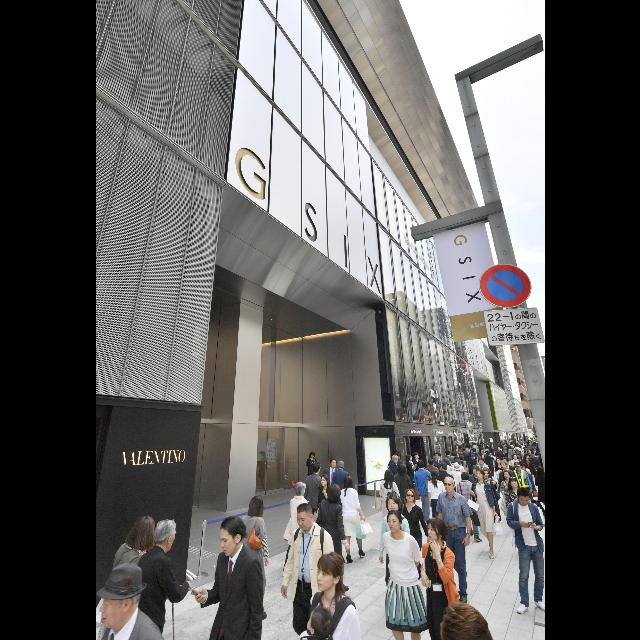head: (97, 574, 143, 628), (218, 517, 244, 557), (316, 554, 342, 592), (152, 520, 175, 552), (306, 608, 332, 636), (296, 503, 314, 531), (134, 516, 154, 538), (426, 518, 446, 540), (386, 510, 402, 532), (247, 496, 263, 514), (515, 488, 529, 507), (443, 476, 455, 494), (386, 497, 398, 513), (328, 485, 340, 499), (295, 482, 305, 496), (405, 488, 415, 502), (475, 466, 485, 479), (508, 477, 518, 488), (312, 462, 320, 473), (481, 468, 489, 479), (320, 476, 328, 486), (336, 460, 344, 470), (384, 470, 392, 480), (416, 460, 424, 470), (502, 470, 510, 480), (344, 476, 351, 486), (329, 458, 336, 468), (439, 462, 446, 472), (499, 460, 506, 470), (404, 454, 412, 462), (430, 470, 438, 478), (460, 472, 468, 480), (392, 454, 398, 464), (520, 462, 526, 472), (502, 456, 508, 466), (478, 458, 484, 467), (398, 464, 404, 472), (394, 452, 400, 460), (428, 458, 434, 466), (434, 452, 440, 460), (472, 466, 478, 474), (470, 458, 476, 466), (514, 464, 520, 471), (406, 455, 412, 461), (443, 459, 449, 465), (444, 450, 450, 456), (454, 459, 460, 465), (512, 454, 518, 460), (534, 452, 540, 458), (414, 452, 418, 460), (310, 452, 314, 458), (454, 464, 458, 470), (470, 460, 476, 464), (538, 468, 542, 474), (496, 458, 500, 464), (524, 454, 530, 458), (510, 450, 516, 454), (474, 452, 478, 458), (452, 452, 456, 456), (459, 456, 463, 460), (461, 447, 465, 451), (472, 449, 476, 453), (485, 451, 489, 455), (527, 450, 531, 454), (481, 450, 484, 454), (496, 447, 499, 451), (511, 446, 514, 450), (514, 444, 516, 448), (490, 446, 492, 448), (486, 442, 488, 444), (534, 448, 536, 450)
person: (434, 475, 474, 607), (236, 494, 270, 622), (378, 494, 412, 612), (316, 483, 350, 592), (393, 487, 431, 581), (282, 480, 312, 580), (468, 468, 500, 560), (338, 475, 366, 565), (455, 472, 483, 544), (504, 476, 530, 548), (377, 468, 403, 536), (314, 473, 336, 549), (303, 461, 325, 535), (476, 468, 502, 530), (412, 460, 432, 526), (427, 469, 448, 531), (432, 462, 456, 516), (392, 463, 414, 521), (496, 460, 520, 512), (330, 460, 350, 520), (511, 461, 534, 513), (498, 470, 520, 522), (322, 458, 341, 518), (515, 462, 537, 512), (386, 451, 404, 497), (468, 465, 484, 513), (499, 457, 515, 503), (474, 456, 491, 499), (448, 462, 464, 506), (424, 458, 440, 500), (519, 453, 537, 489), (388, 454, 402, 498), (304, 450, 318, 490), (441, 448, 455, 486), (450, 458, 464, 496), (404, 454, 416, 496), (492, 458, 506, 492), (432, 452, 444, 490), (440, 458, 454, 490), (467, 458, 479, 494), (528, 451, 542, 481), (411, 452, 424, 484), (404, 454, 416, 488), (467, 458, 479, 492), (509, 454, 521, 484), (458, 447, 470, 477), (509, 449, 521, 478), (512, 444, 524, 471), (484, 450, 494, 482), (448, 451, 458, 479), (456, 454, 466, 482), (470, 448, 480, 476), (471, 451, 481, 479), (526, 448, 536, 474), (506, 445, 516, 469), (530, 446, 540, 466), (496, 447, 504, 468), (480, 450, 486, 470), (489, 444, 495, 462), (486, 442, 490, 458)
